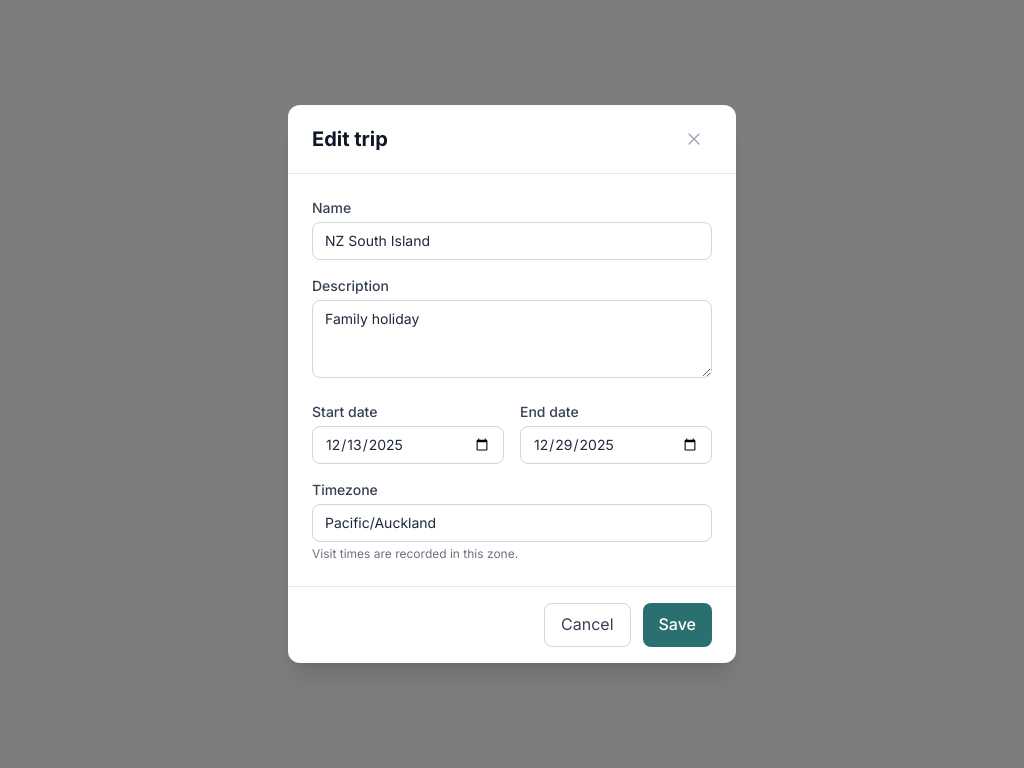
Test: TripMetadataFormModal › blocks submit when the end date is before the start date
The width and height of the screenshot is (1024, 768).
Type "2025-12-01" into the date field labelled "End date" at (616, 445), box [520, 426, 712, 464]
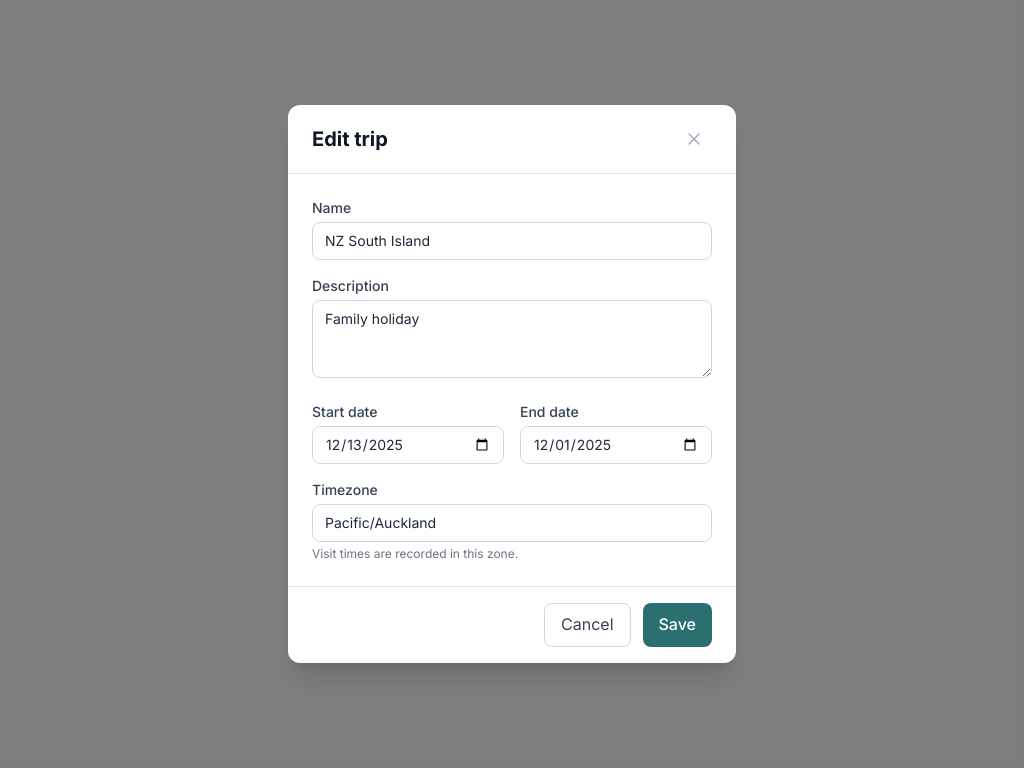
Click the button "Save" at (677, 625), box [642, 603, 712, 647]
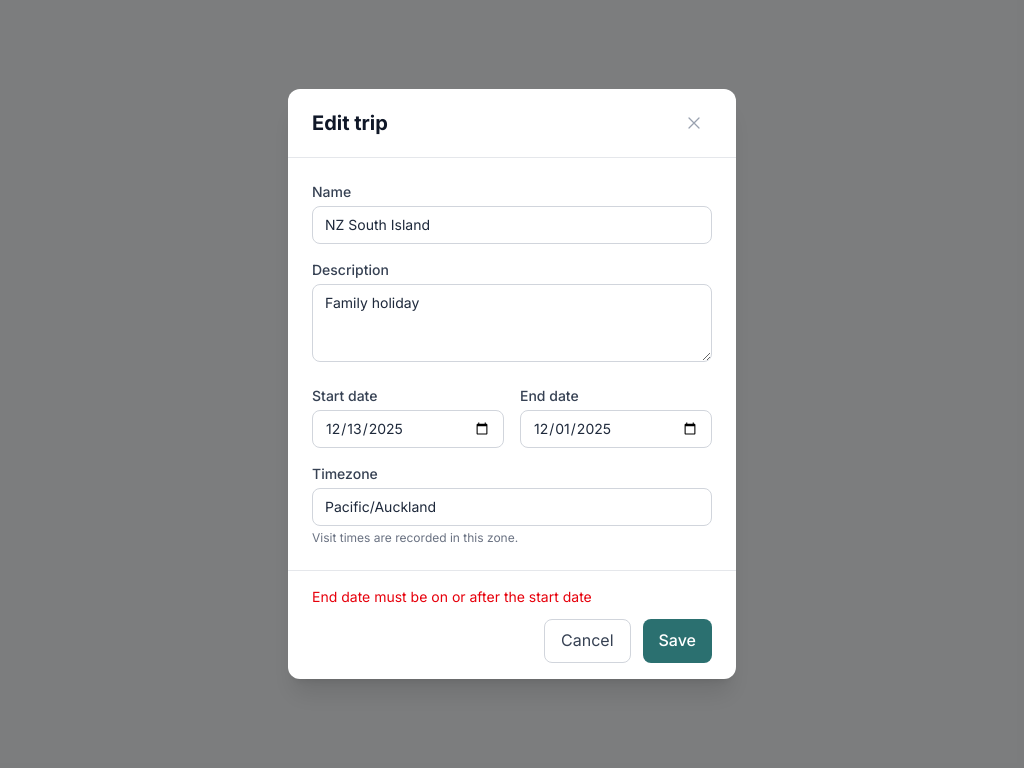
Result: the text "End date must be on or after the start date" is shown at [312, 588, 592, 605]
